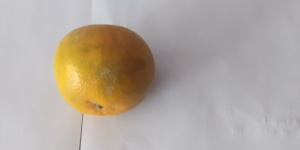BAD: (52, 24, 155, 118)
